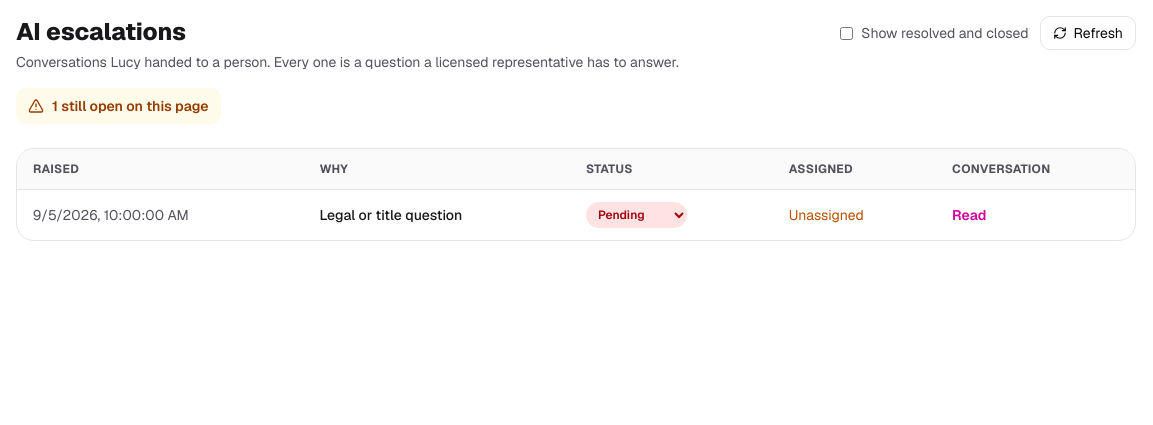
it: a failed conversation load does not take down the queue
The image size is (1153, 425).
Expected: the text "Legal or title question" is shown, [303,190,570,240]
Step 1. Click the button "Read" → x=969, y=215, box [952,205,986,225]
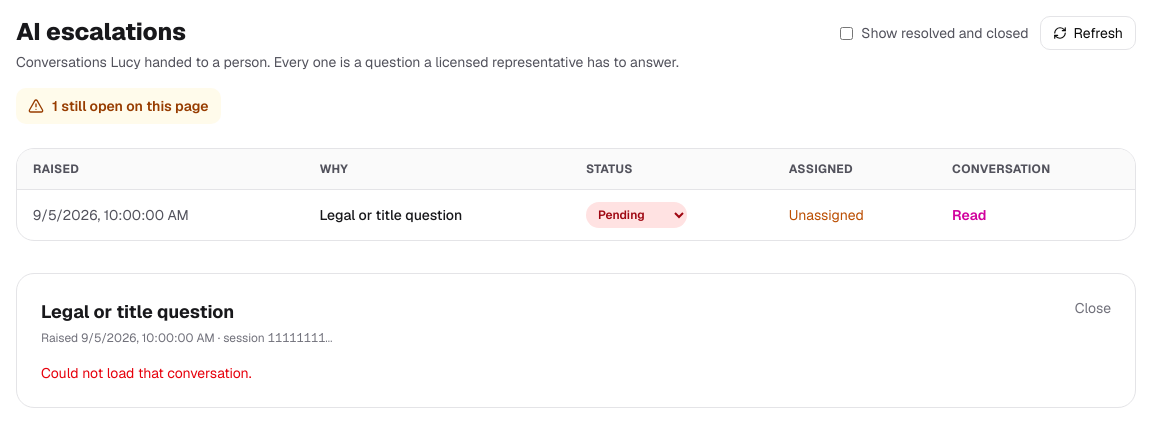
Expected: the text "Legal or title question" is shown, [303,190,570,240]
Expected: the message shows "Could not load that conversation", [41,364,252,382]
